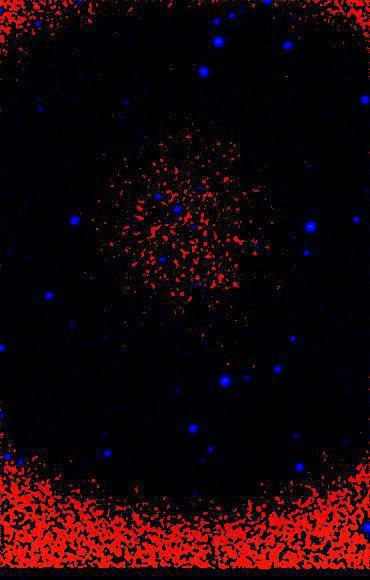star: (201, 145, 231, 175)
